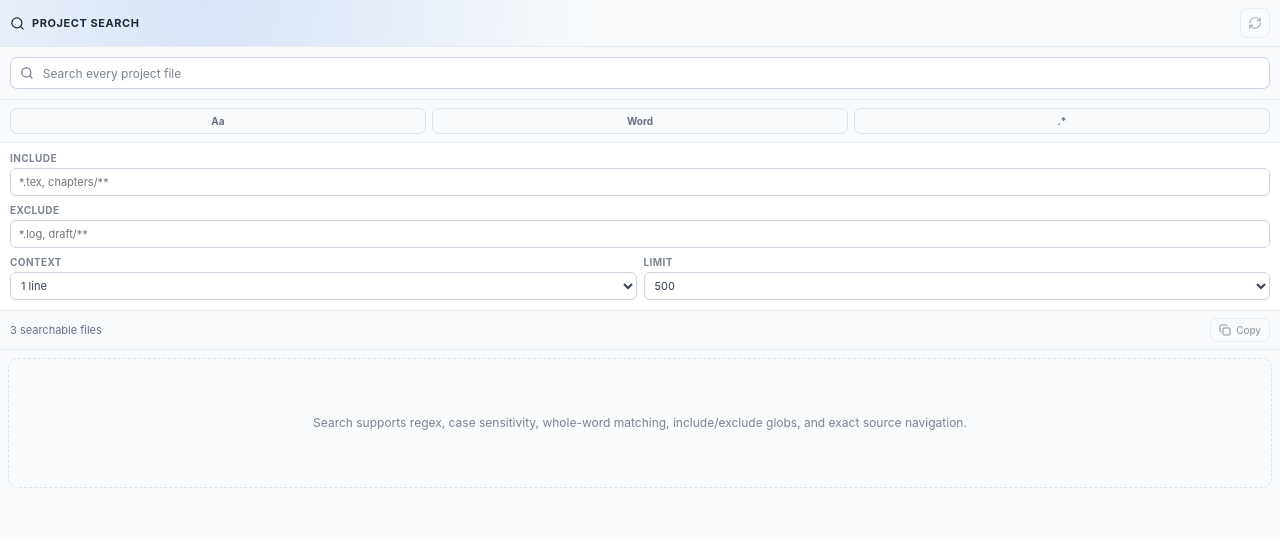
Scenario: ProjectSearchPanel › shows invalid regex errors without opening stale results
Click the button ".*".
click(1062, 121)  # box [854, 108, 1270, 134]
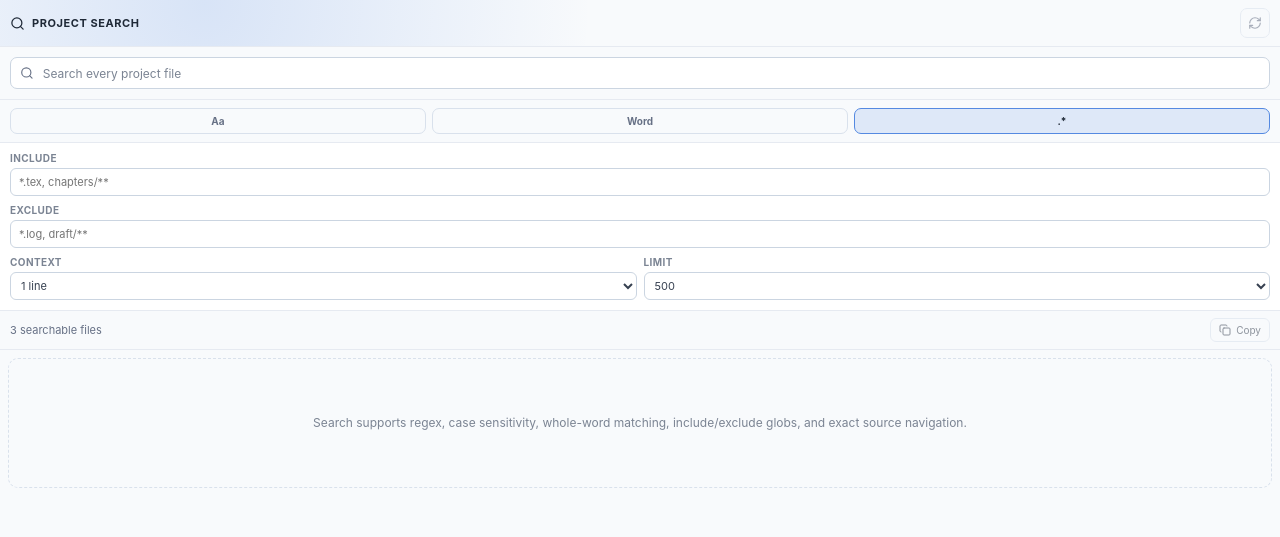
Type "(" into the field with placeholder "Search every project file".
click(650, 73); type("(")  # box [41, 64, 1260, 82]
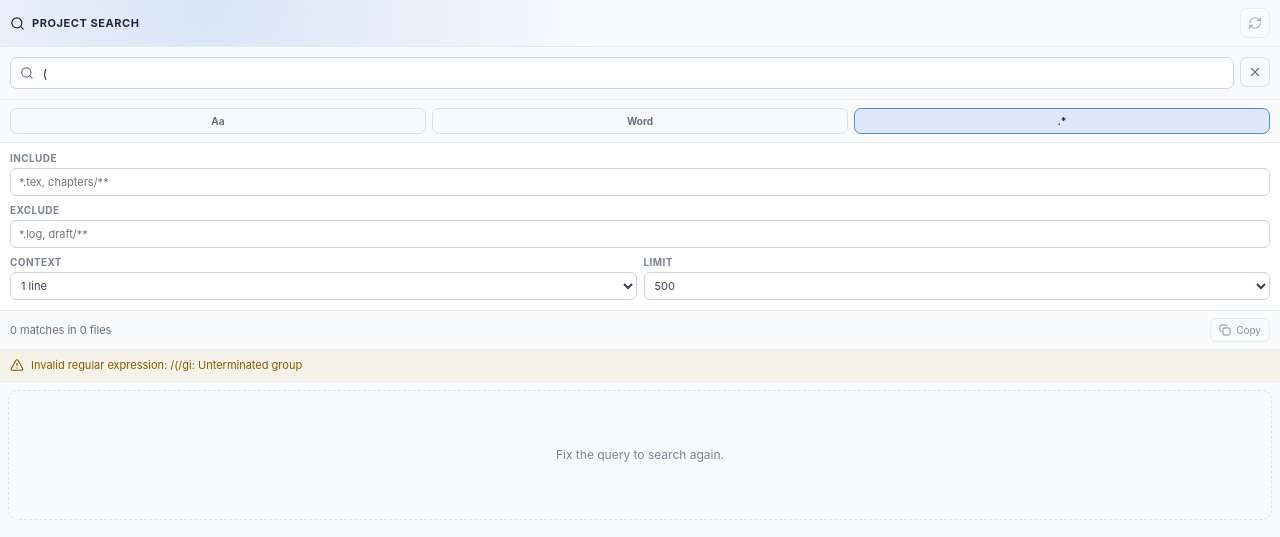
Check: the text "Invalid regular expression: /(/gi: Unterminated group" is shown, box [31, 358, 302, 373]
Check: the text "Fix the query to search again." is shown, box [8, 390, 1272, 520]
